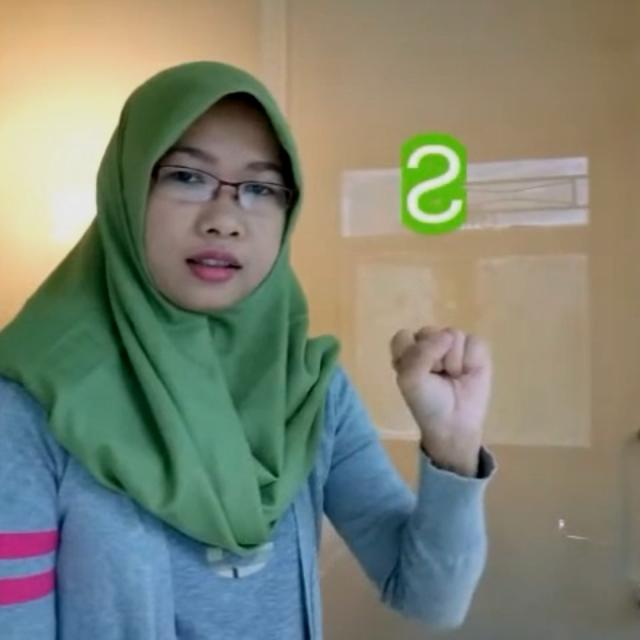S: (384, 320, 498, 430)
